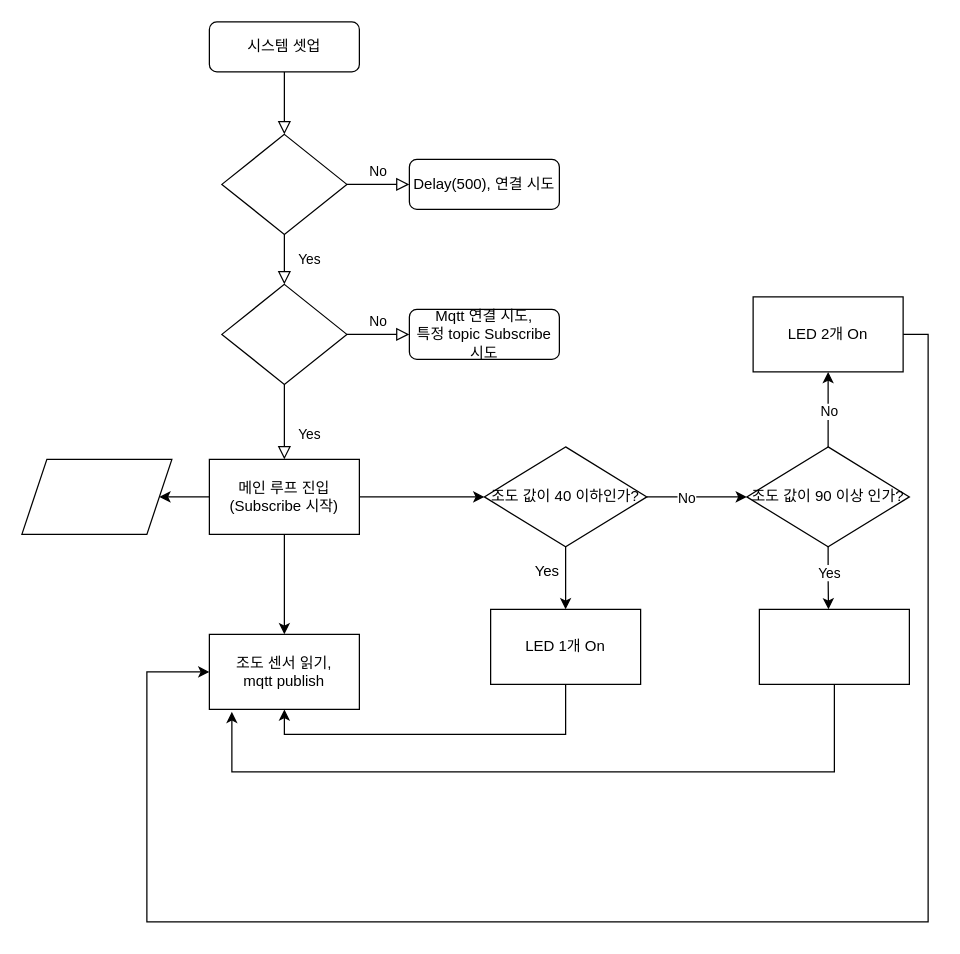
Image size: 960x954. Some labels were removed from this diagram. Each missing label, with the centre of its shape:
"LED 3개 On" goes at point 833,646.
"Mqtt 서버에 연결 되었는가?" goes at point 284,333.
"시리얼 모니터 받은 메시지 출력" goes at point 96,496.
"와이파이가 연결 되었는가?" goes at point 284,183.
